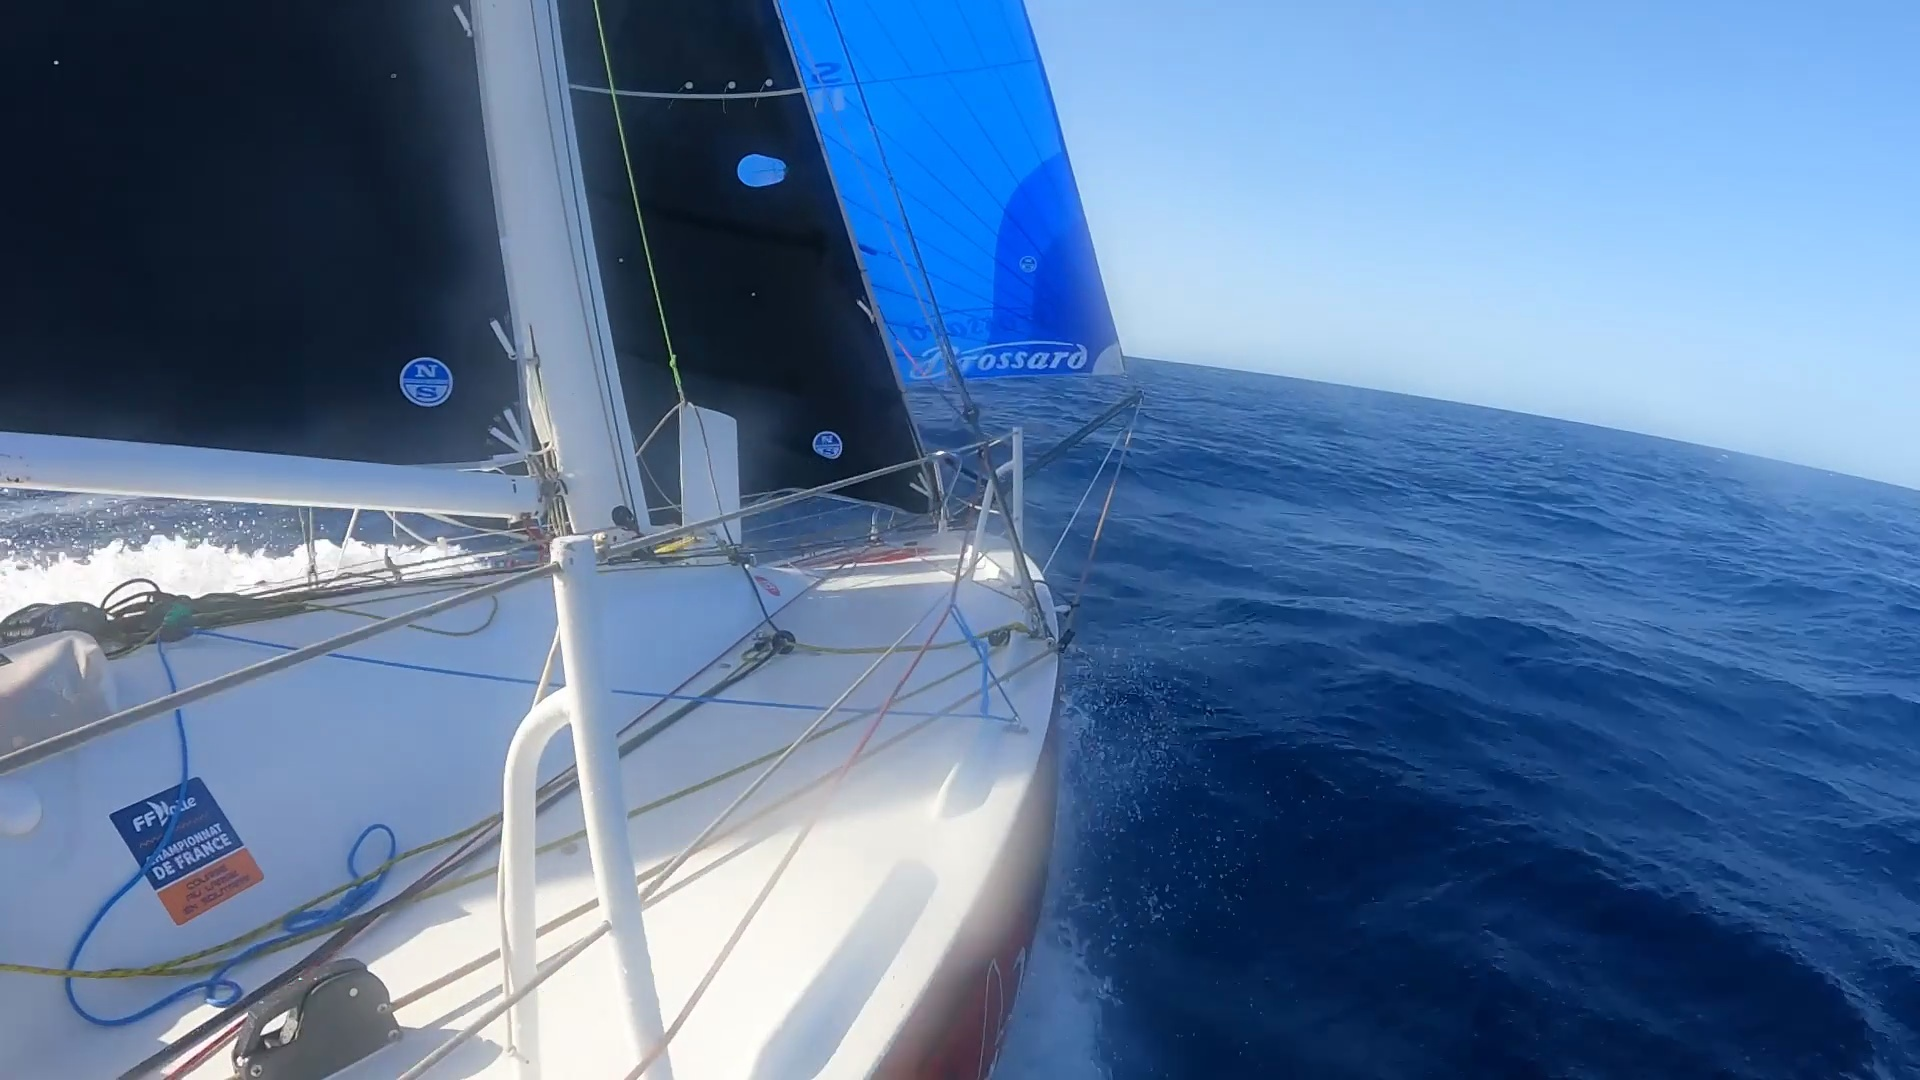pennon_detached: (663, 74, 699, 109), (749, 74, 777, 113), (717, 74, 737, 123)
